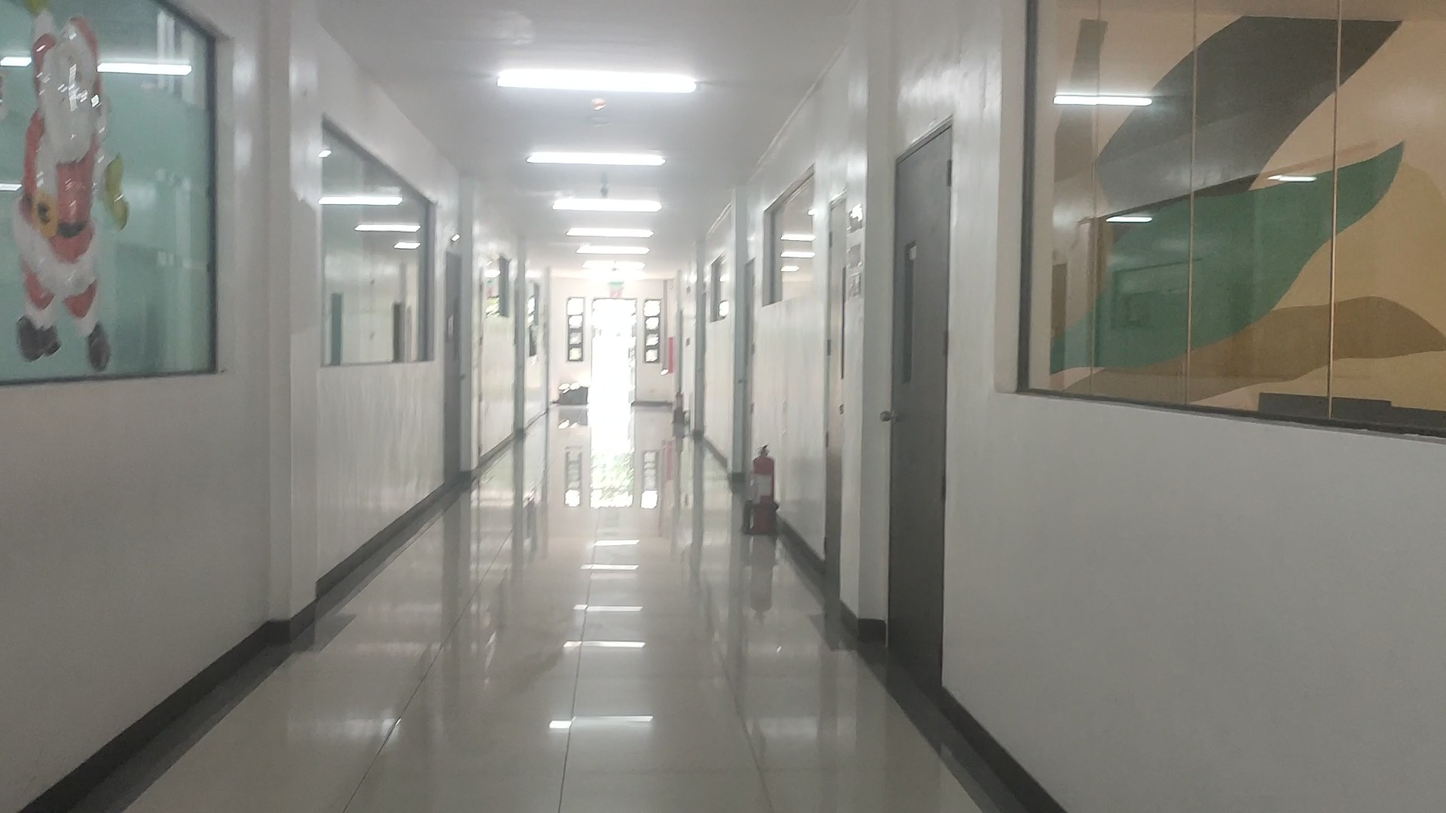door: (886, 117, 953, 693)
